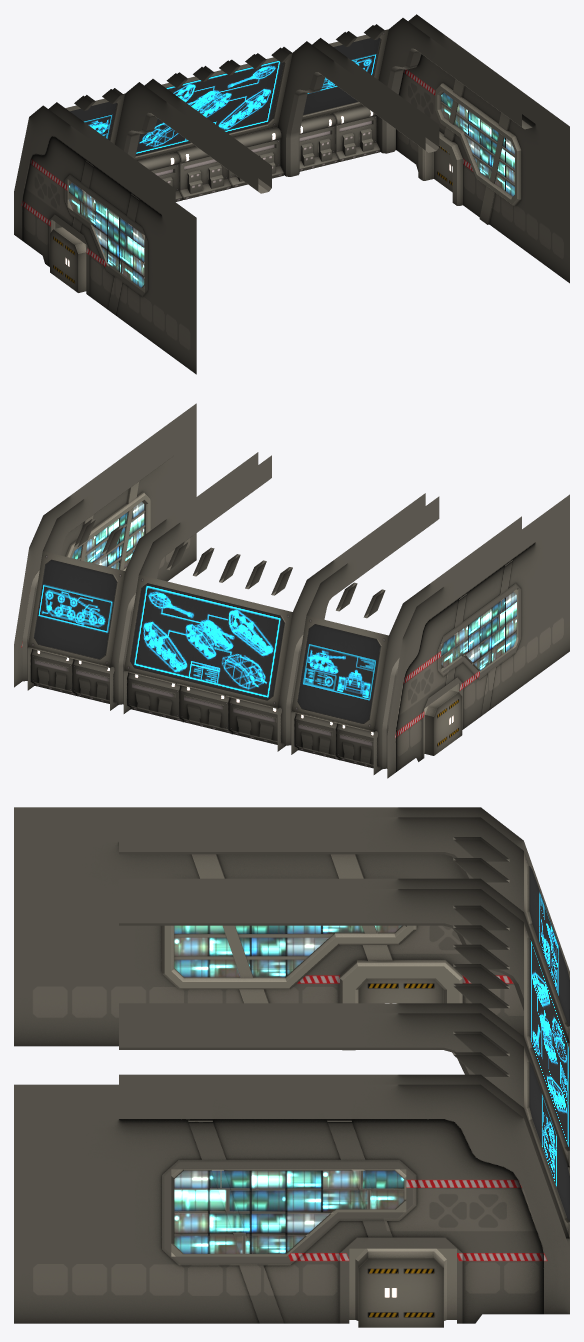
The model's file is hanger_walls.fbx.
3 renders of one model, top to bottom at view 1: azimuth 30°, elevation 25°; view 2: azimuth 150°, elevation 25°; view 3: azimuth 270°, elevation 25°, orthographic. The views are drawn at different scales.
Visible parts, largest first — view 1: hanger_walls; view 2: hanger_walls; view 3: hanger_walls.
Boxes of the visible parts, <box> form: hanger_walls: <box>14,14,569,374</box>; hanger_walls: <box>14,403,569,778</box>; hanger_walls: <box>14,807,569,1327</box>.
Size of the model in its own units: 220 by 86 by 181.
